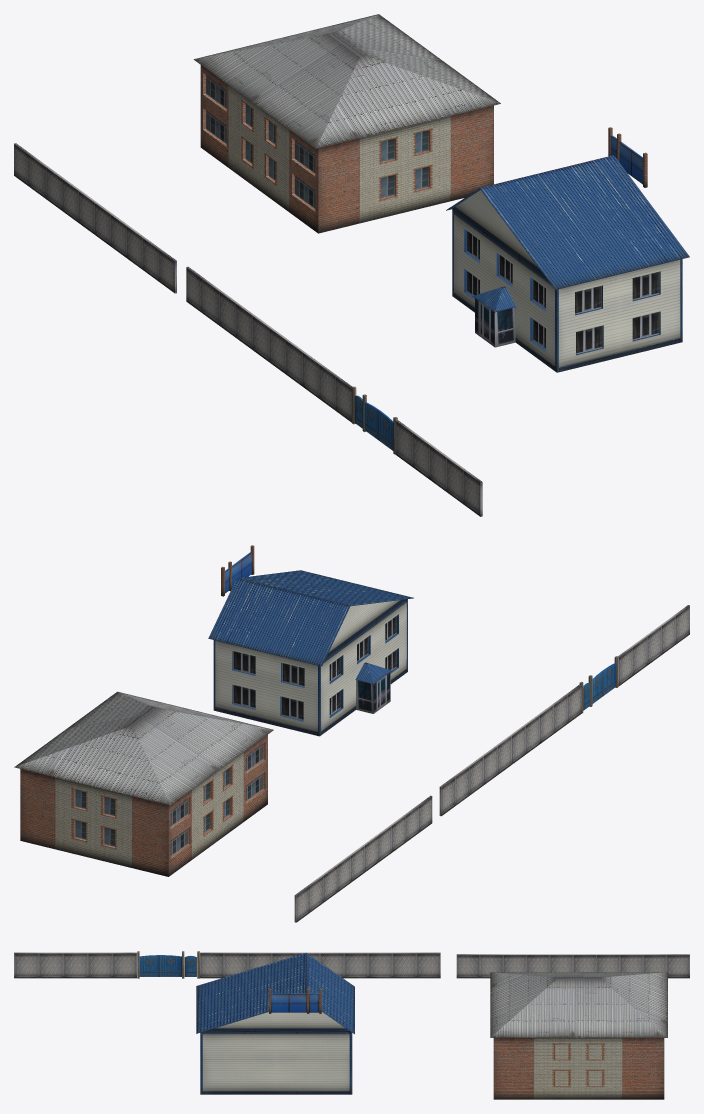
The model's file is r402_ishim_domik4_5.FBX.
3 views of the same model, one above another, from view 1: azimuth 30°, elevation 25°; view 2: azimuth 150°, elevation 25°; view 3: azimuth 270°, elevation 25° (orthographic). The views are drawn at different scales.
Visible parts, largest first — view 1: dom1, dom2, 3, 1, 5, 4, 2; view 2: dom1, dom2, 3, 1, 5, 4, 2; view 3: dom1, dom2, 3, 1, 5, 4, 2.
Boxes of the visible parts, bbox=[...] form: dom1: bbox=[193, 14, 500, 233]; dom2: bbox=[446, 155, 689, 372]; 3: bbox=[186, 266, 352, 422]; 1: bbox=[14, 143, 176, 293]; 5: bbox=[395, 420, 482, 516]; 4: bbox=[352, 386, 397, 454]; 2: bbox=[608, 127, 647, 187]; dom1: bbox=[14, 691, 273, 876]; dom2: bbox=[208, 570, 413, 736]; 3: bbox=[439, 684, 581, 816]; 1: bbox=[294, 795, 432, 922]; 5: bbox=[618, 605, 689, 686]; 4: bbox=[579, 656, 618, 713]; 2: bbox=[221, 545, 254, 596]; dom1: bbox=[490, 972, 667, 1099]; dom2: bbox=[196, 953, 354, 1094]; 3: bbox=[200, 952, 440, 978]; 1: bbox=[456, 954, 689, 978]; 5: bbox=[14, 952, 136, 978]; 4: bbox=[137, 951, 199, 978]; 2: bbox=[269, 988, 321, 1013].
Bounding box in the file's own units: 25.08 × 57.9 × 10.34.
